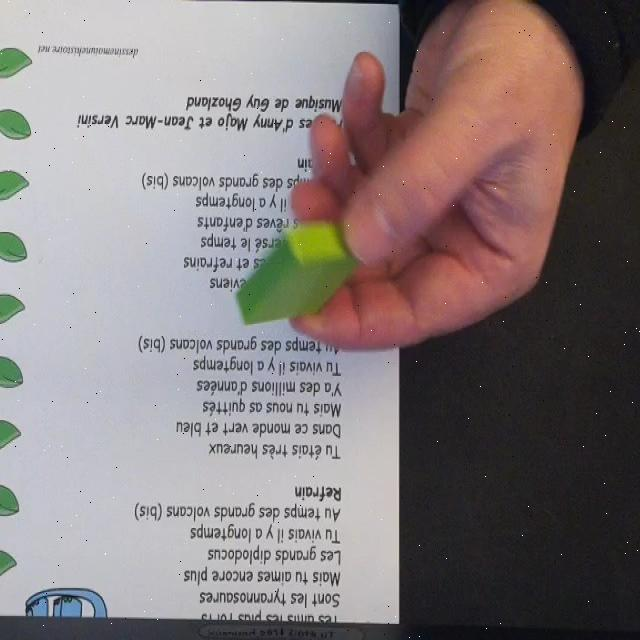square: (238, 225, 363, 328)
